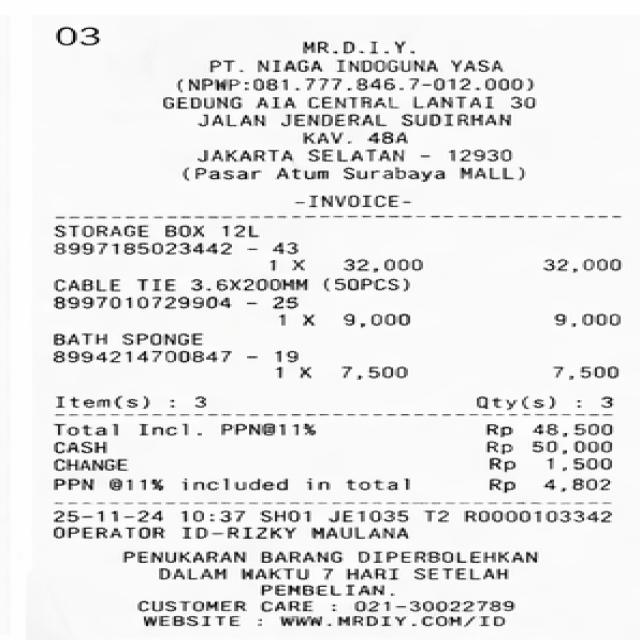date: (52, 508, 258, 526)
store: (296, 37, 426, 56)
total: (45, 421, 617, 442)
